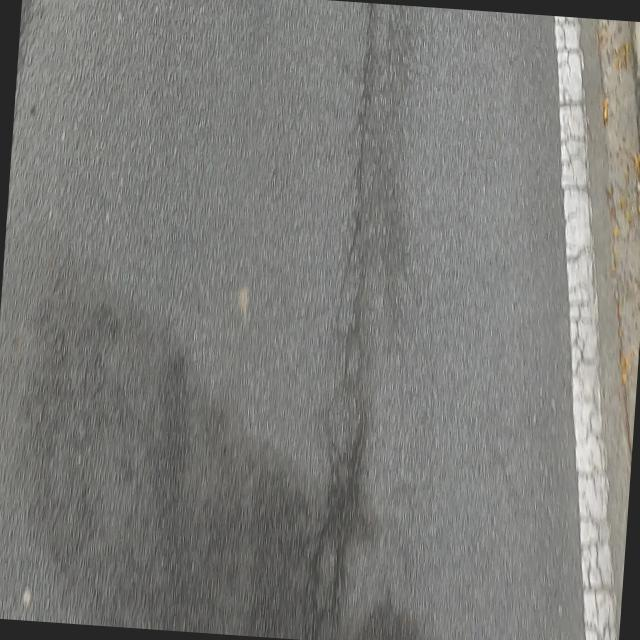Retak-Buaya: (553, 17, 615, 640)
Retak-Memanjang: (333, 3, 379, 621)
